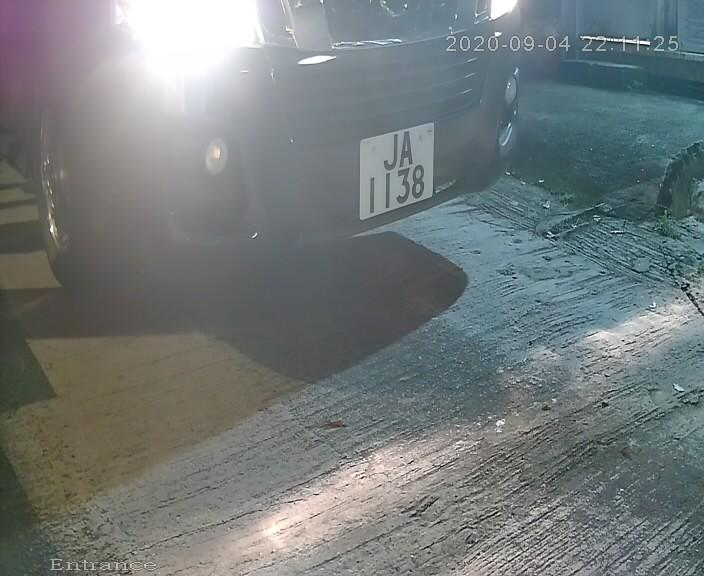License Plate: (349, 103, 444, 237)
